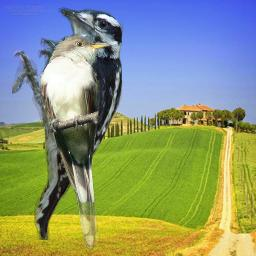Cuckoo: (40, 33, 110, 250)
Woodpecker: (12, 5, 137, 240)
